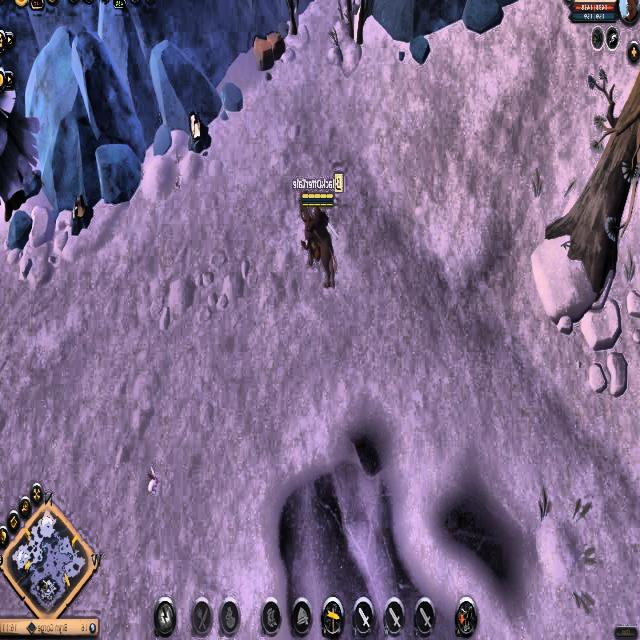copperore: (182, 108, 213, 158), (70, 192, 94, 237)
limestone: (250, 26, 291, 70)
